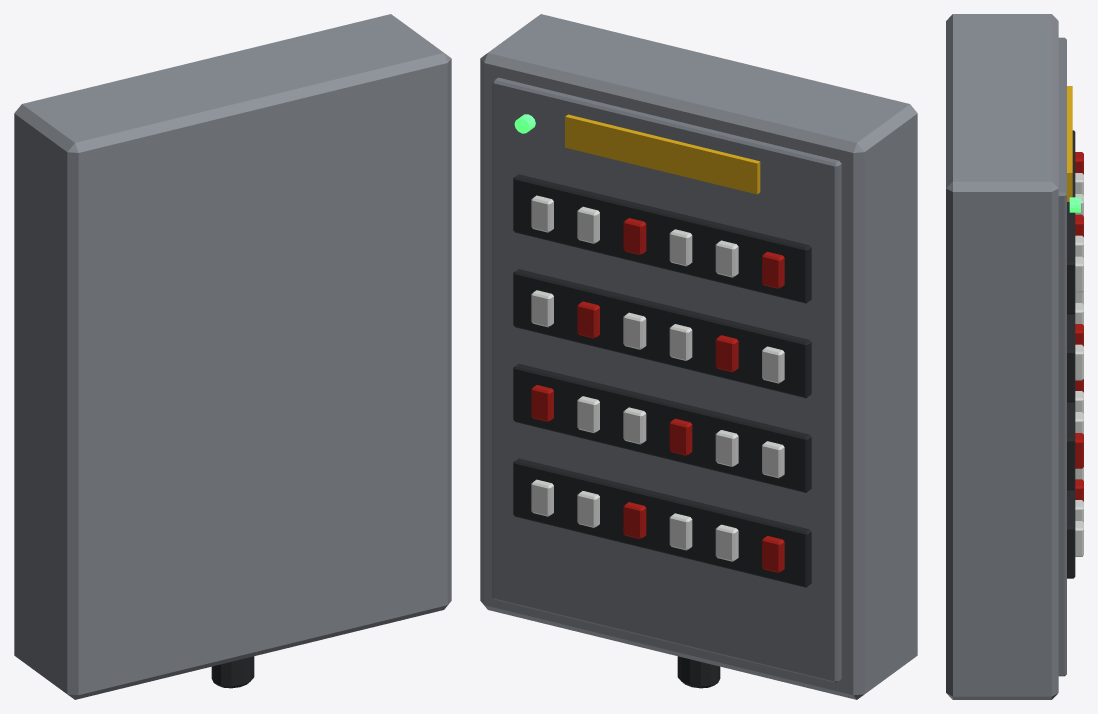
File: breaker_panel.glb
The picture shows the model from 3 angles, left to right: view 1: azimuth 30°, elevation 25°; view 2: azimuth 150°, elevation 25°; view 3: azimuth 270°, elevation 25°; orthographic projection. The views are drawn at different scales.
Visible parts, largest first — view 1: breaker_panel; view 2: breaker_panel; view 3: breaker_panel.
Part boxes in pixels (x1,y1,x2,y2): breaker_panel: (14, 14, 451, 699); breaker_panel: (480, 14, 917, 699); breaker_panel: (946, 14, 1083, 699).
Bounding box in the file's own units: 0.6 × 0.9 × 0.2.
